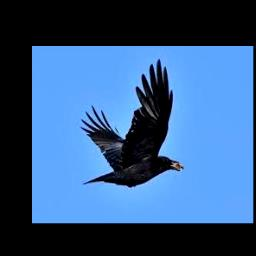Crow: (82, 59, 183, 187)
